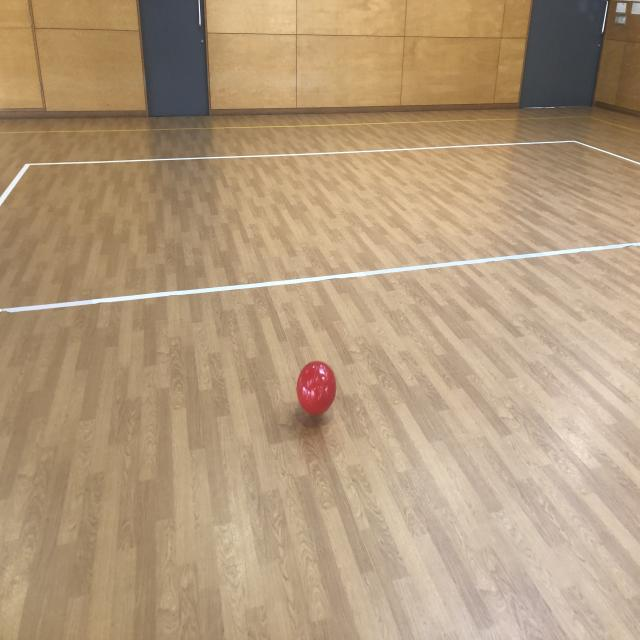red_ball: (296, 360, 337, 415)
